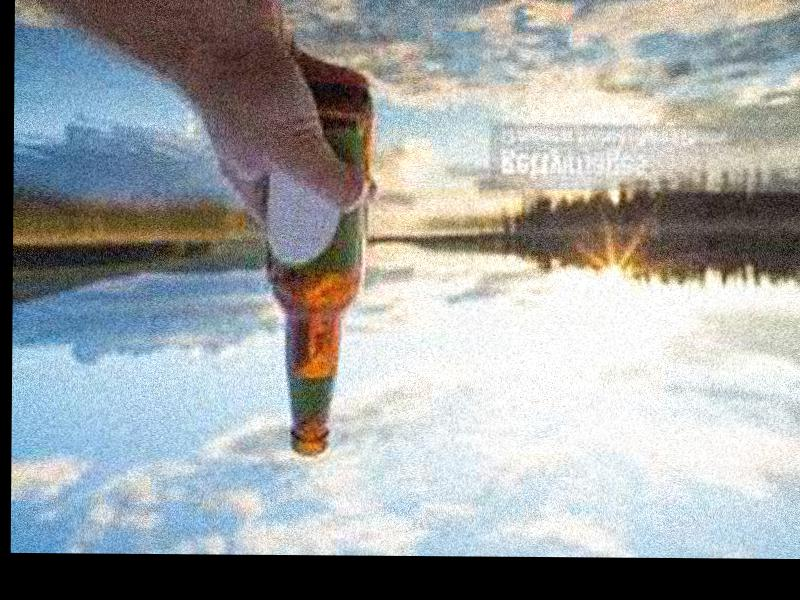Beer: (262, 88, 378, 460)
